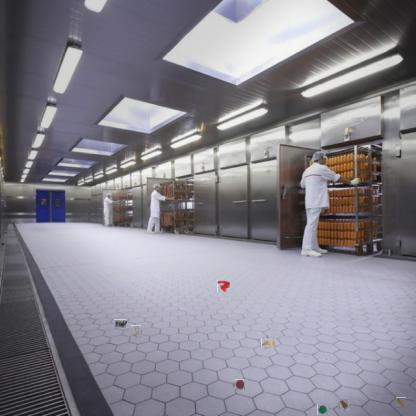dirty: (263, 336, 275, 349), (338, 399, 350, 411), (317, 404, 329, 415), (131, 325, 141, 338), (396, 397, 406, 408), (114, 319, 126, 328)
liquid: (217, 280, 230, 292), (234, 380, 245, 390)
